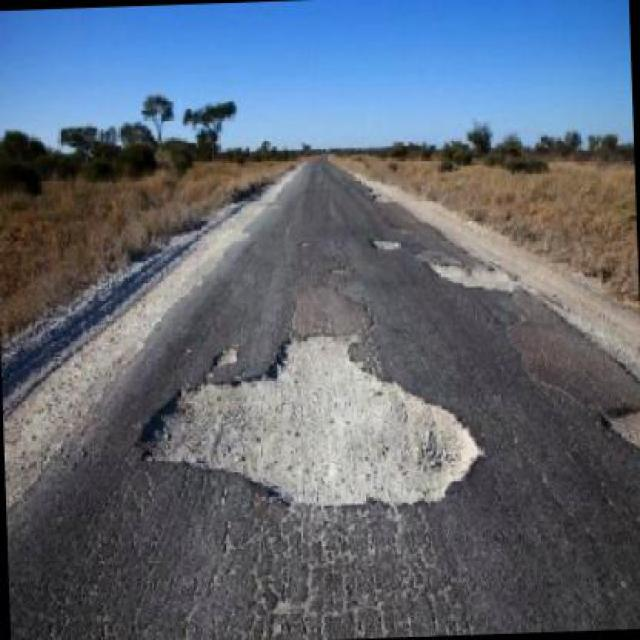pothole1: (132, 323, 488, 517), (428, 249, 517, 297), (597, 397, 638, 449), (210, 344, 241, 368), (368, 232, 400, 250)
